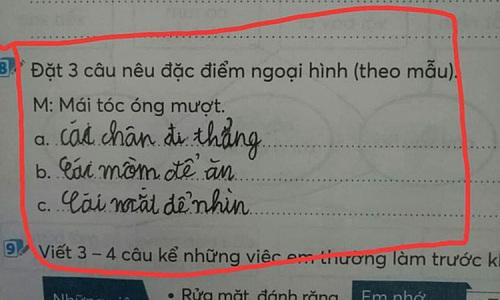text: (38, 242, 500, 271), (28, 57, 458, 84), (34, 116, 263, 162), (36, 184, 251, 217), (34, 152, 236, 182), (30, 95, 226, 118), (180, 284, 340, 300), (361, 286, 426, 300), (52, 291, 131, 300), (6, 242, 16, 256), (0, 60, 8, 76)
